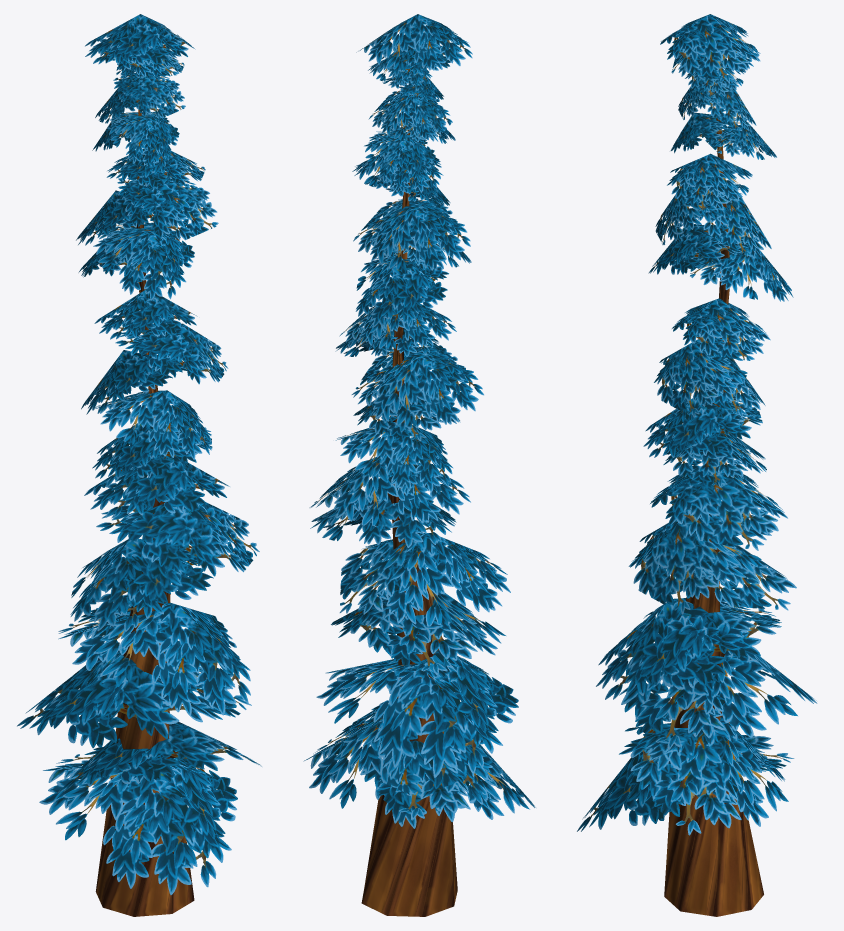
The model's file is 8_Azul_LOD_1.fbx.
3 views of the same model, side by side, from view 1: azimuth 30°, elevation 25°; view 2: azimuth 150°, elevation 25°; view 3: azimuth 270°, elevation 25° (orthographic).
Parts seen in each view (by area): view 1: 8_Azul_LOD_1; view 2: 8_Azul_LOD_1; view 3: 8_Azul_LOD_1.
Boxes of the visible parts, x1,y1,x2,y2 form: 8_Azul_LOD_1: [17, 14, 261, 916]; 8_Azul_LOD_1: [303, 14, 535, 916]; 8_Azul_LOD_1: [577, 14, 817, 916].
Bounding box in the file's own units: 721 × 2748 × 727.
